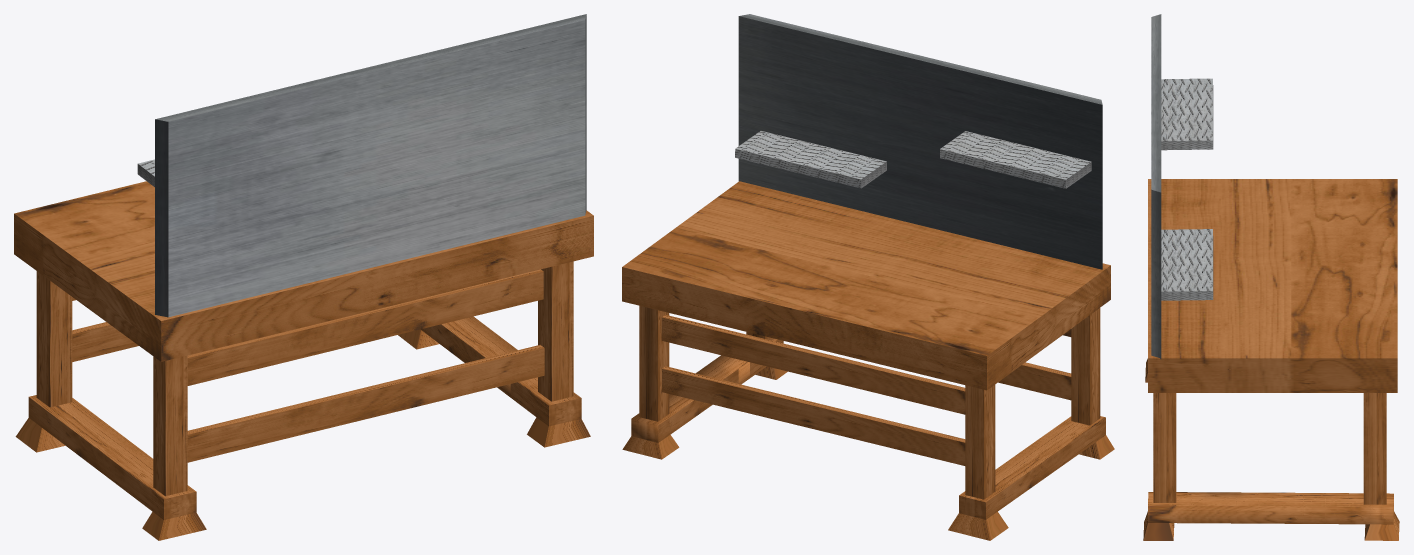
File: стол.fbx
3 renders of one model, left to right at view 1: azimuth 30°, elevation 25°; view 2: azimuth 150°, elevation 25°; view 3: azimuth 270°, elevation 25°, orthographic. The views are drawn at different scales.
Parts seen in each view (by area): view 1: Куб.003, Куб.002; view 2: Куб.002, Куб.003, Куб.005; view 3: Куб.002, Куб.005, Куб.003.
Boxes of the visible parts, x1,y1,x2,y2 form: Куб.003: [155, 14, 586, 317]; Куб.002: [14, 181, 593, 540]; Куб.002: [622, 181, 1114, 540]; Куб.003: [738, 14, 1102, 269]; Куб.005: [735, 131, 1091, 188]; Куб.002: [1143, 179, 1399, 540]; Куб.005: [1161, 78, 1213, 300]; Куб.003: [1151, 14, 1161, 359].
Bounding box in the file's own units: 208 × 190 × 125.
Materials: 3 (3 with a texture image).
